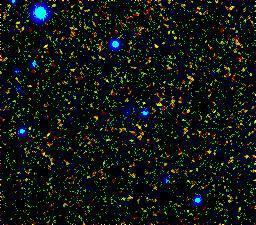star: (15, 111, 45, 141)
